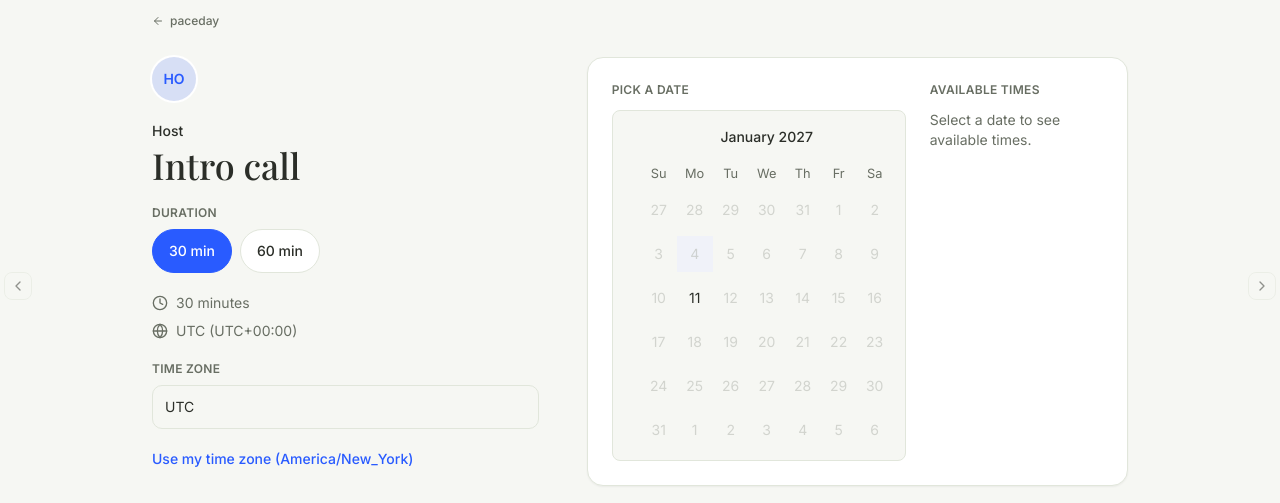
PAC-88 default zone › AC-3: an owner without a zone shows UTC, whatever the browser (and a server before PAC-72 states none)
Click the button "11": (695, 298) x1=677 y1=280 x2=713 y2=316
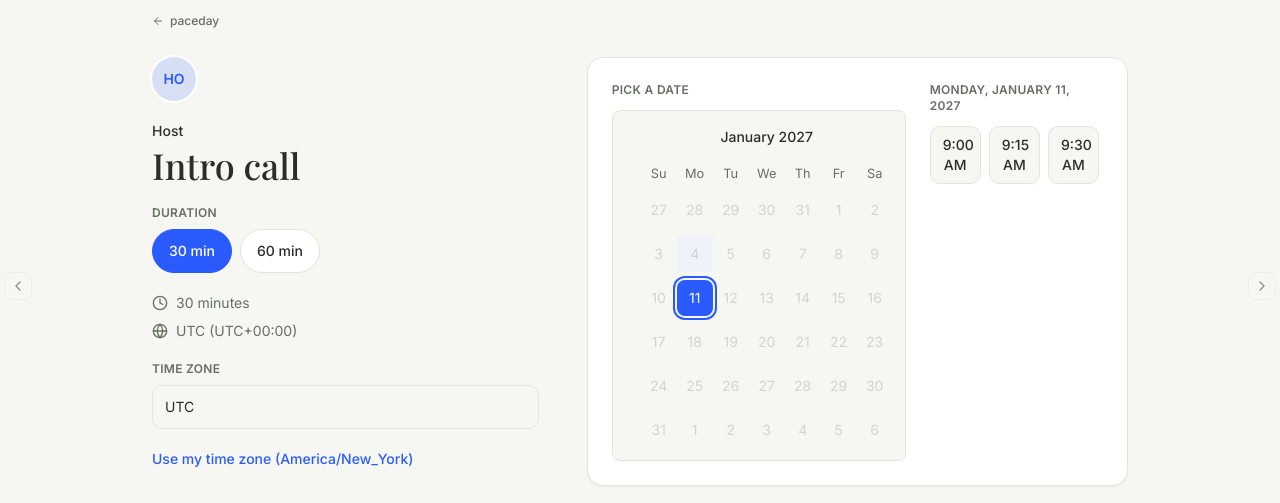
Expected: the button labelled "9:00 AM" is shown, x1=930 y1=126 x2=981 y2=184
